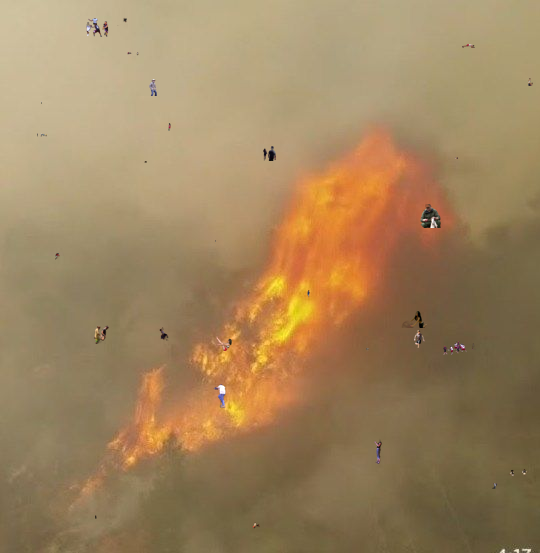Human: (82, 325, 109, 344), (399, 311, 429, 328), (420, 204, 441, 228), (84, 18, 110, 37), (443, 341, 476, 355), (213, 384, 226, 408), (216, 336, 232, 351), (374, 438, 382, 464), (414, 330, 425, 348), (263, 146, 276, 161), (158, 327, 171, 341), (508, 469, 530, 477), (111, 17, 127, 26), (149, 79, 157, 96), (252, 522, 260, 529), (488, 483, 497, 489), (462, 44, 475, 48), (127, 52, 139, 56), (37, 133, 47, 137), (528, 78, 533, 86), (55, 253, 60, 260), (307, 290, 310, 298), (168, 123, 171, 131), (366, 348, 370, 351), (144, 161, 147, 164), (454, 157, 458, 159), (95, 515, 97, 519), (230, 536, 231, 541), (41, 101, 42, 104), (215, 240, 216, 242)
